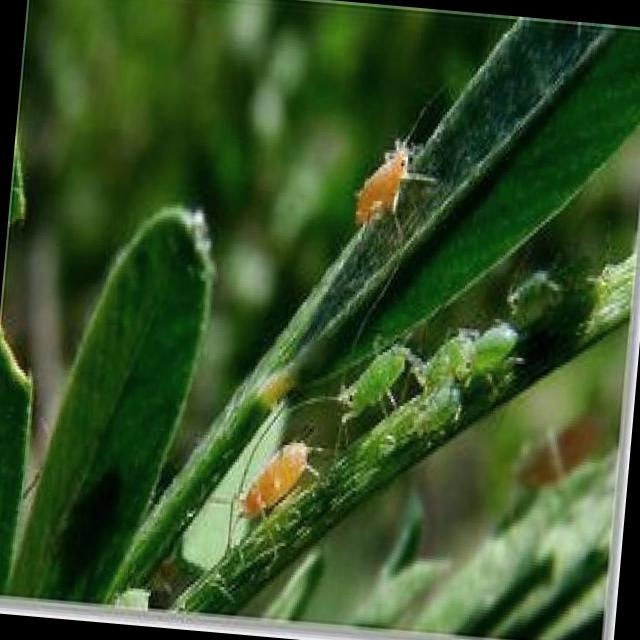aphid: (324, 330, 415, 426), (234, 435, 318, 529), (350, 137, 429, 233)
